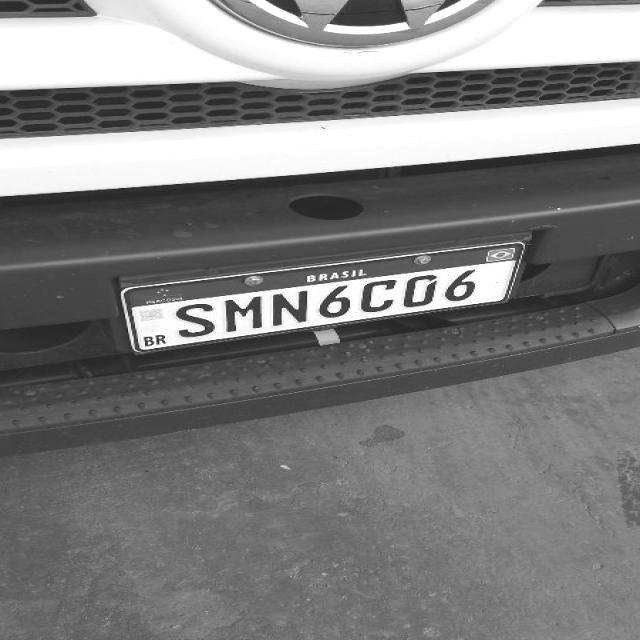placa_mercosul: (120, 238, 529, 351)
